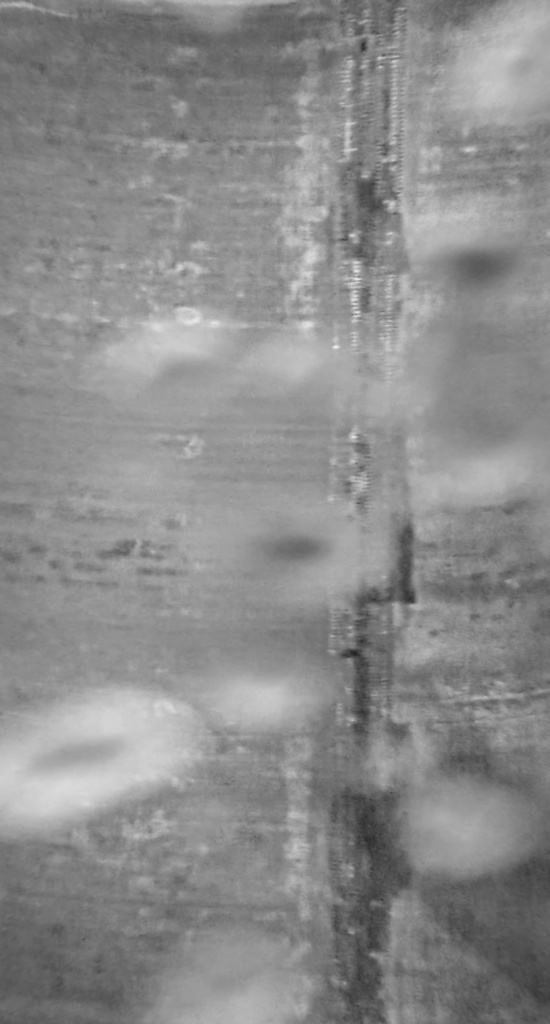splice: (315, 1, 412, 1022)
